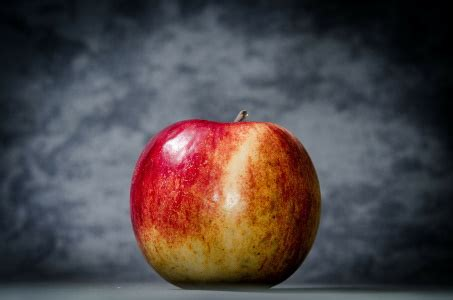apple: (126, 114, 326, 291)
